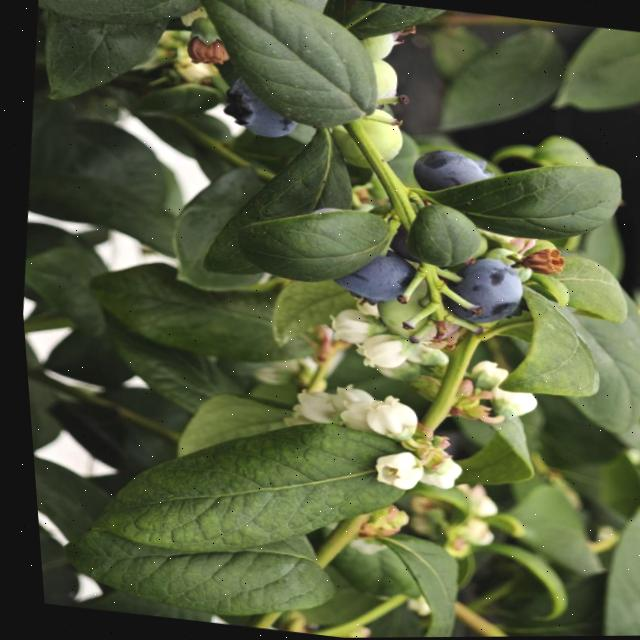RipeBlueBerry: (440, 254, 524, 331), (320, 246, 412, 311), (214, 71, 297, 140), (404, 144, 492, 199)
